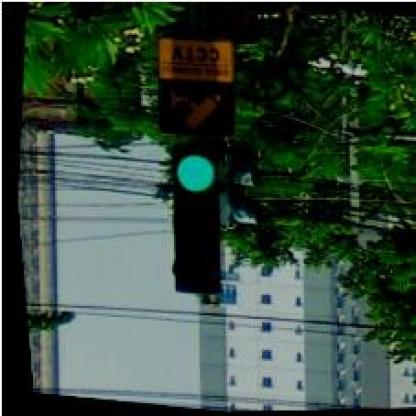green: (148, 143, 233, 297)
